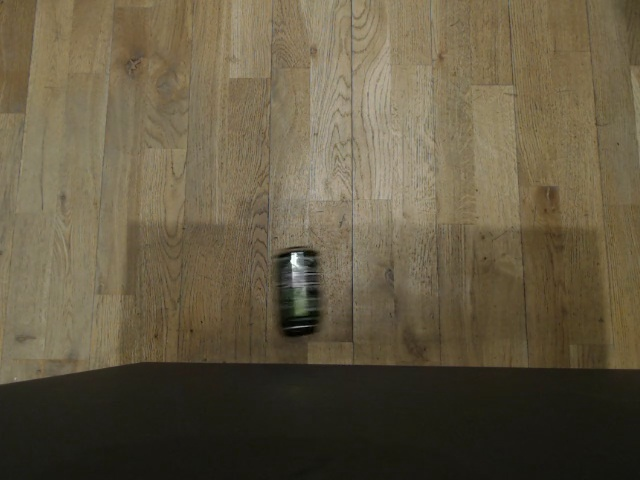beer: (274, 247, 323, 334)
